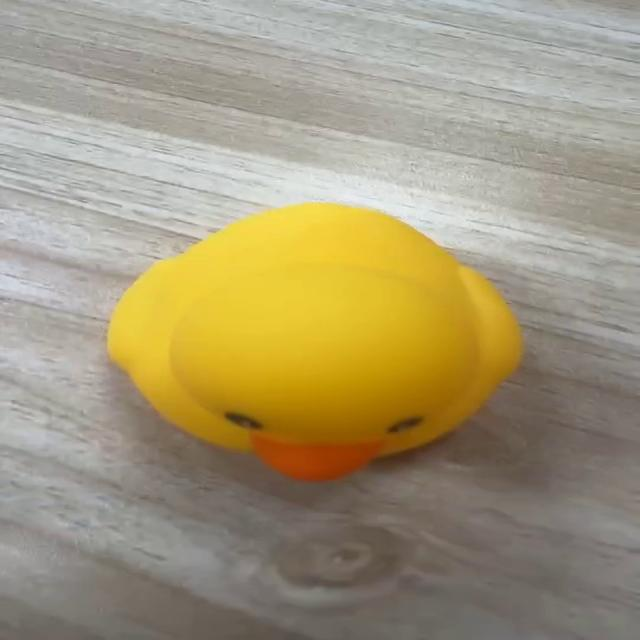yellow_duck: (103, 200, 524, 483)
